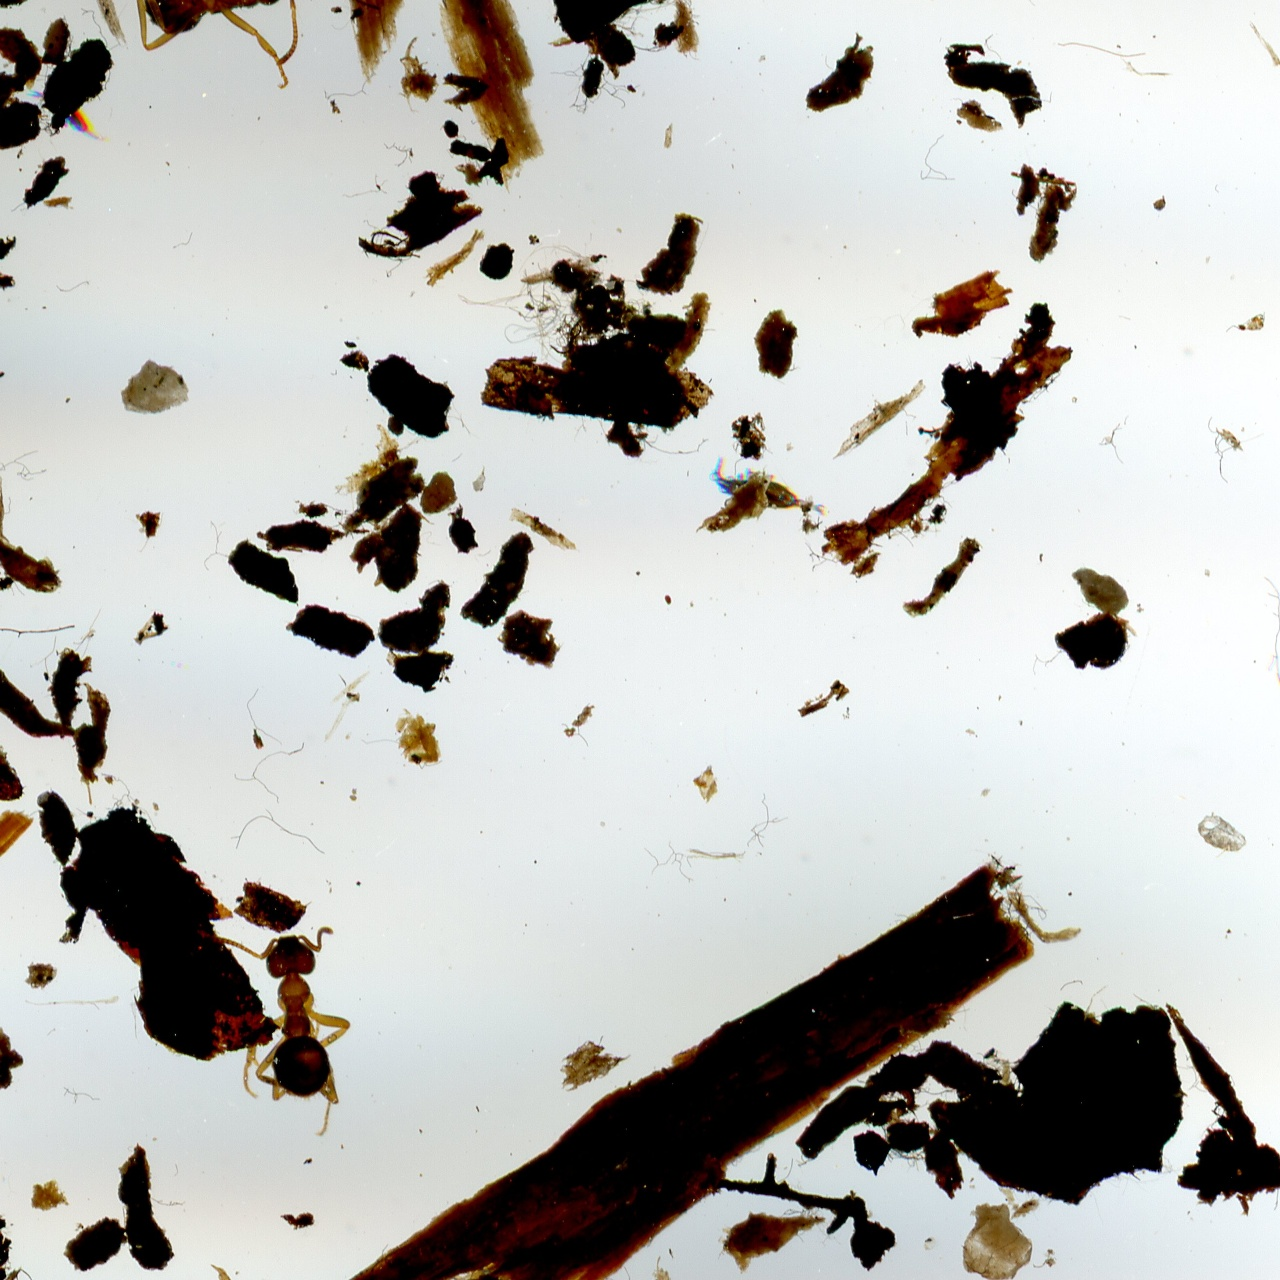arthropod: (210, 922, 353, 1141), (102, 0, 309, 93), (702, 450, 836, 525), (19, 77, 121, 155)
